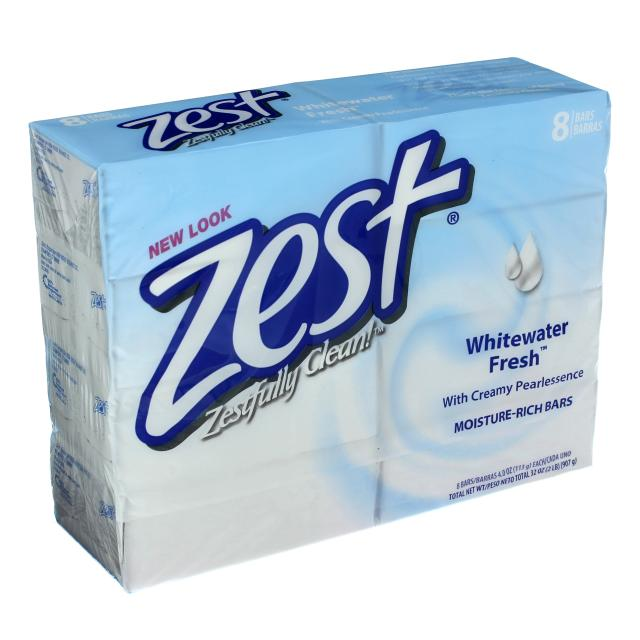soap: (16, 53, 617, 588)
